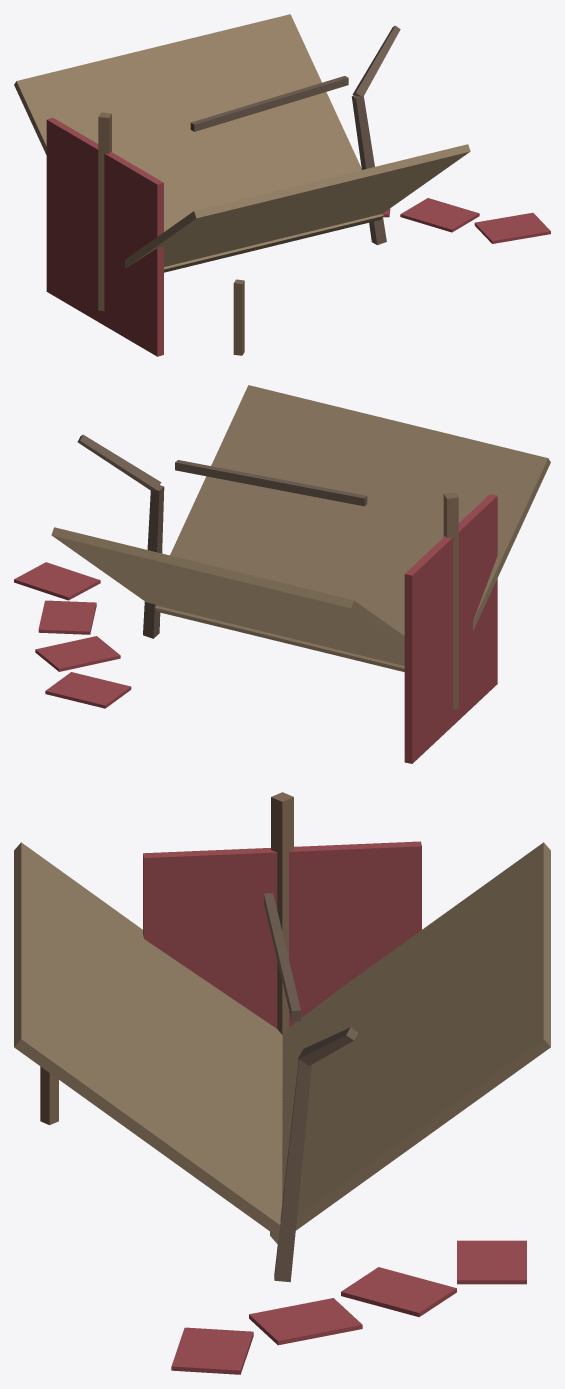
The model's file is tent.glb.
The picture shows the model from 3 angles, top to bottom: view 1: azimuth 30°, elevation 25°; view 2: azimuth 150°, elevation 25°; view 3: azimuth 270°, elevation 25°; orthographic projection. The views are drawn at different scales.
Visible parts, largest first — view 1: tent; view 2: tent; view 3: tent.
Boxes of the visible parts, box(x1,y1,x2,y2) form: tent: box(14, 14, 550, 356); tent: box(14, 385, 550, 763); tent: box(14, 792, 550, 1374).
Bounding box in the file's own units: 3.1 × 1.45 × 2.31.
